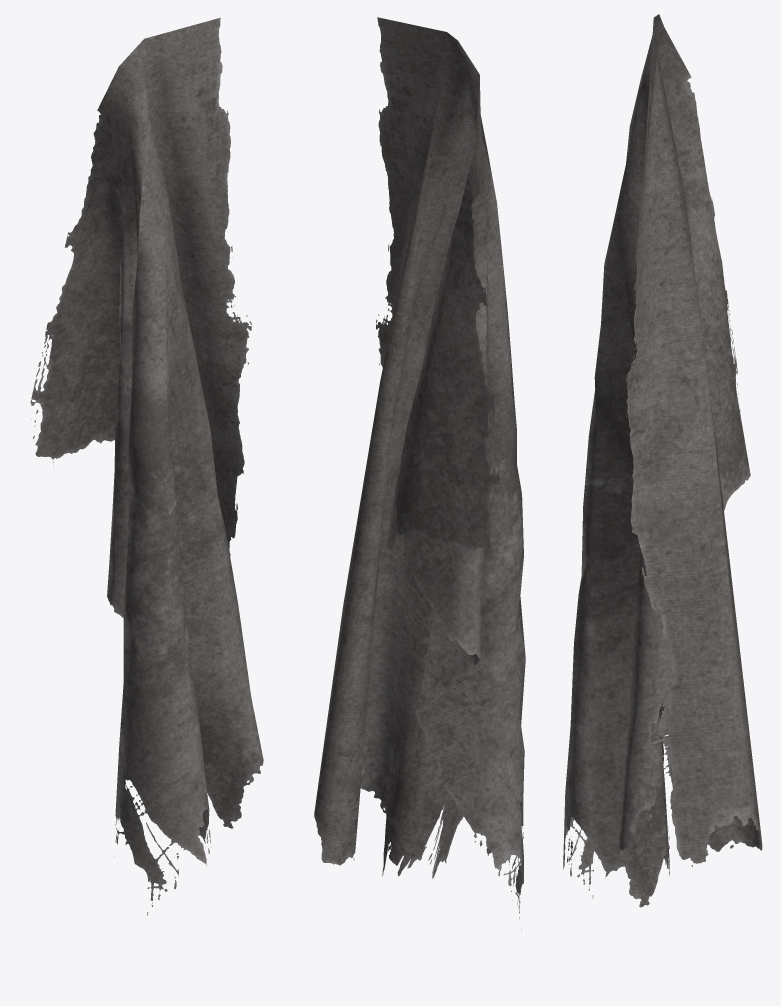
File: SM_Rags_1.fbx
3 renders of one model, left to right at view 1: azimuth 30°, elevation 25°; view 2: azimuth 150°, elevation 25°; view 3: azimuth 270°, elevation 25°, orthographic. The views are drawn at different scales.
Visible parts, largest first — view 1: SM_Rags_1_LOD0; view 2: SM_Rags_1_LOD0; view 3: SM_Rags_1_LOD0.
Boxes of the visible parts, box(x1,y1,x2,y2) form: SM_Rags_1_LOD0: box(30, 17, 263, 915); SM_Rags_1_LOD0: box(314, 17, 525, 930); SM_Rags_1_LOD0: box(563, 14, 762, 907).
Bounding box in the file's own units: 17.34 × 14.89 × 75.78.
